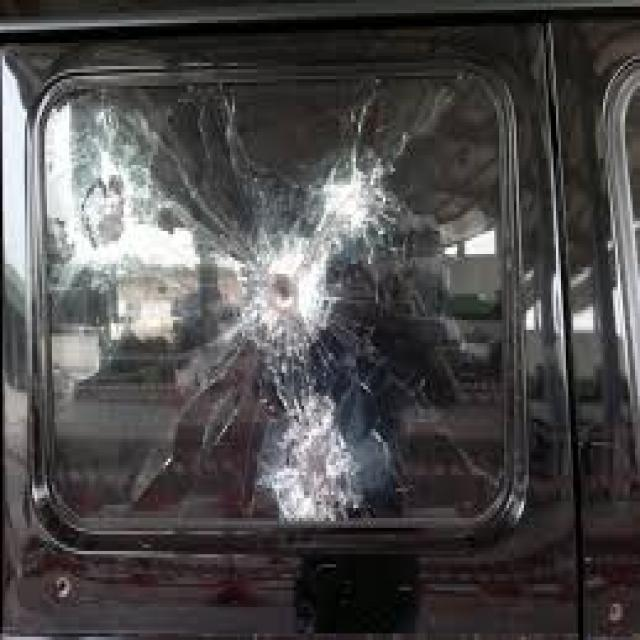damaged-window: (33, 62, 529, 540)
